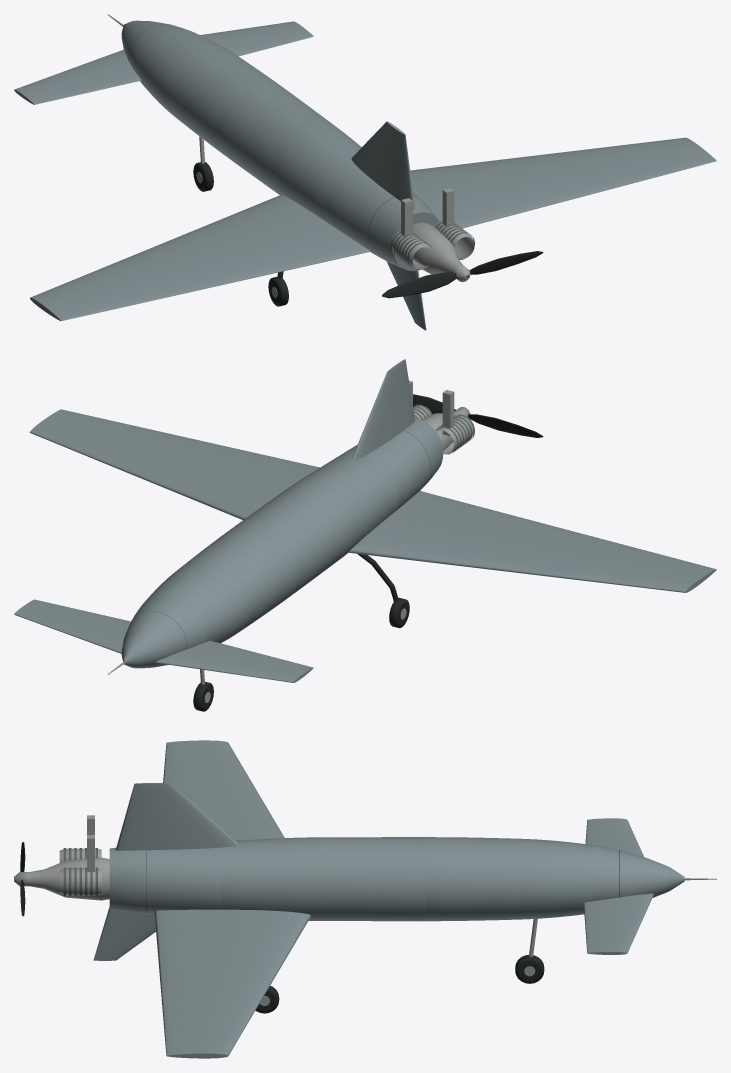
File: bober.obj
3 renders of one model, top to bottom at view 1: azimuth 30°, elevation 25°; view 2: azimuth 150°, elevation 25°; view 3: azimuth 270°, elevation 25°, orthographic. The views are drawn at different scales.
Parts seen in each view (by area): view 1: main_wing, fuselage, canard, dorsal_fin, propeller, engine_case, cylinder_cover, wheel, exhaust_stub, ventral_fin, cooling_rib; view 2: main_wing, fuselage, canard, dorsal_fin, propeller, wheel, cylinder_cover, cooling_rib, exhaust_stub; view 3: fuselage, main_wing, dorsal_fin, canard, ventral_fin, engine_case, cylinder_cover, wheel, cooling_rib.
Boxes of the visible parts, x1=… form: main_wing: x1=30, y1=137, x2=716, y2=321; fuselage: x1=121, y1=20, x2=439, y2=271; canard: x1=14, y1=21, x2=313, y2=104; dorsal_fin: x1=351, y1=121, x2=414, y2=209; propeller: x1=382, y1=251, x2=543, y2=298; engine_case: x1=413, y1=222, x2=462, y2=274; cylinder_cover: x1=390, y1=221, x2=474, y2=269; wheel: x1=193, y1=162, x2=288, y2=306; exhaust_stub: x1=401, y1=188, x2=454, y2=236; ventral_fin: x1=386, y1=261, x2=426, y2=330; cooling_rib: x1=391, y1=221, x2=474, y2=270; main_wing: x1=30, y1=409, x2=716, y2=592; fuselage: x1=121, y1=418, x2=443, y2=668; canard: x1=14, y1=599, x2=313, y2=682; dorsal_fin: x1=351, y1=359, x2=414, y2=460; propeller: x1=413, y1=394, x2=543, y2=437; wheel: x1=193, y1=598, x2=409, y2=711; cylinder_cover: x1=413, y1=405, x2=473, y2=454; cooling_rib: x1=413, y1=404, x2=474, y2=454; exhaust_stub: x1=409, y1=380, x2=454, y2=435; fuselage: x1=109, y1=837, x2=684, y2=921; main_wing: x1=154, y1=740, x2=311, y2=1058; dorsal_fin: x1=116, y1=783, x2=239, y2=850; canard: x1=583, y1=818, x2=653, y2=954; ventral_fin: x1=93, y1=907, x2=155, y2=960; engine_case: x1=30, y1=857, x2=109, y2=900; cylinder_cover: x1=59, y1=848, x2=101, y2=895; wheel: x1=255, y1=955, x2=544, y2=1013; cooling_rib: x1=63, y1=848, x2=97, y2=896.
Bounding box in the file's own units: 7.6 × 2.26 × 7.21.
1 material, 1 textured.
